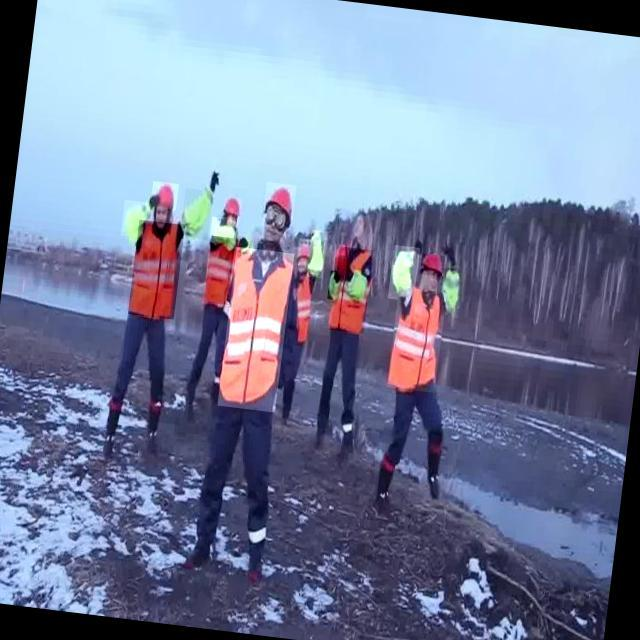Helmet: (261, 182, 296, 229), (150, 181, 179, 210), (332, 245, 354, 280), (419, 253, 444, 278), (222, 197, 243, 223), (296, 243, 313, 266)
Person: (207, 161, 304, 594), (96, 152, 206, 476), (377, 231, 478, 545), (317, 196, 375, 490)
Safety Boot: (373, 444, 406, 529), (182, 512, 227, 574), (138, 390, 169, 473), (243, 523, 280, 591), (420, 433, 454, 507), (98, 395, 124, 469), (343, 408, 365, 476), (178, 373, 201, 430), (313, 404, 334, 465), (278, 389, 304, 429)
Safety Vest: (217, 246, 294, 412), (386, 287, 446, 394), (128, 219, 185, 319), (326, 244, 374, 340), (204, 236, 236, 305), (389, 249, 420, 306), (288, 277, 312, 346), (441, 266, 465, 315)
no-boot: (185, 189, 214, 232), (349, 265, 372, 307), (125, 205, 149, 244), (308, 234, 328, 279), (330, 264, 345, 310), (210, 229, 238, 247)
